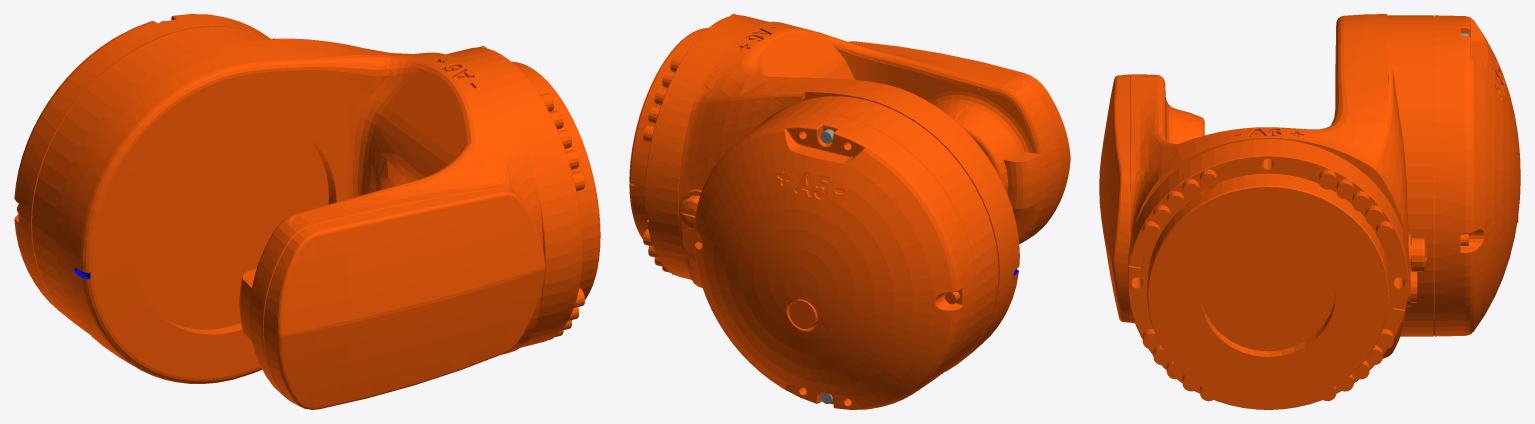
3 renders of one model, left to right at view 1: azimuth 30°, elevation 25°; view 2: azimuth 150°, elevation 25°; view 3: azimuth 270°, elevation 25°, orthographic. The views are drawn at different scales.
Parts seen in each view (by area): view 1: link_5; view 2: link_5; view 3: link_5.
Part boxes in pixels (x1,y1,x2,y2): link_5: (14,14,600,409); link_5: (629,14,1070,409); link_5: (1099,14,1520,409).
Size of the model in its own units: 0.3302 by 0.3121 by 0.24.
